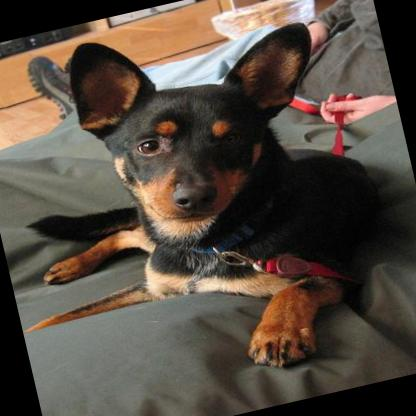miniature_pinscher: (0, 0, 402, 416)
